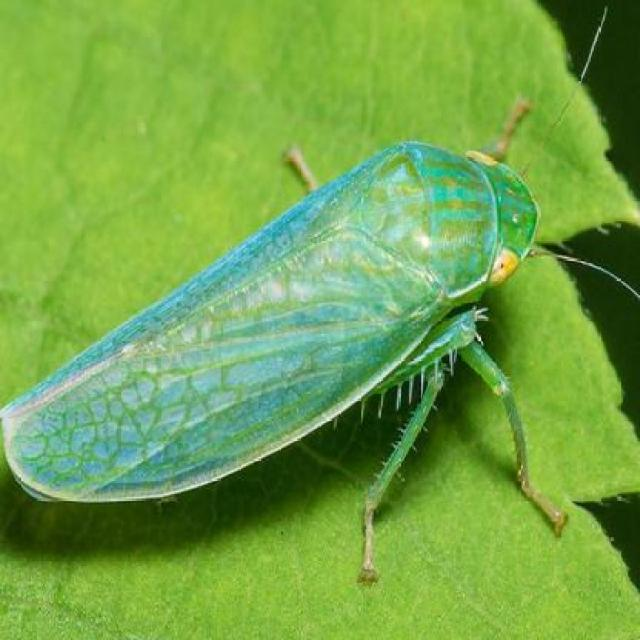green-leafhopper: (6, 147, 540, 527)
